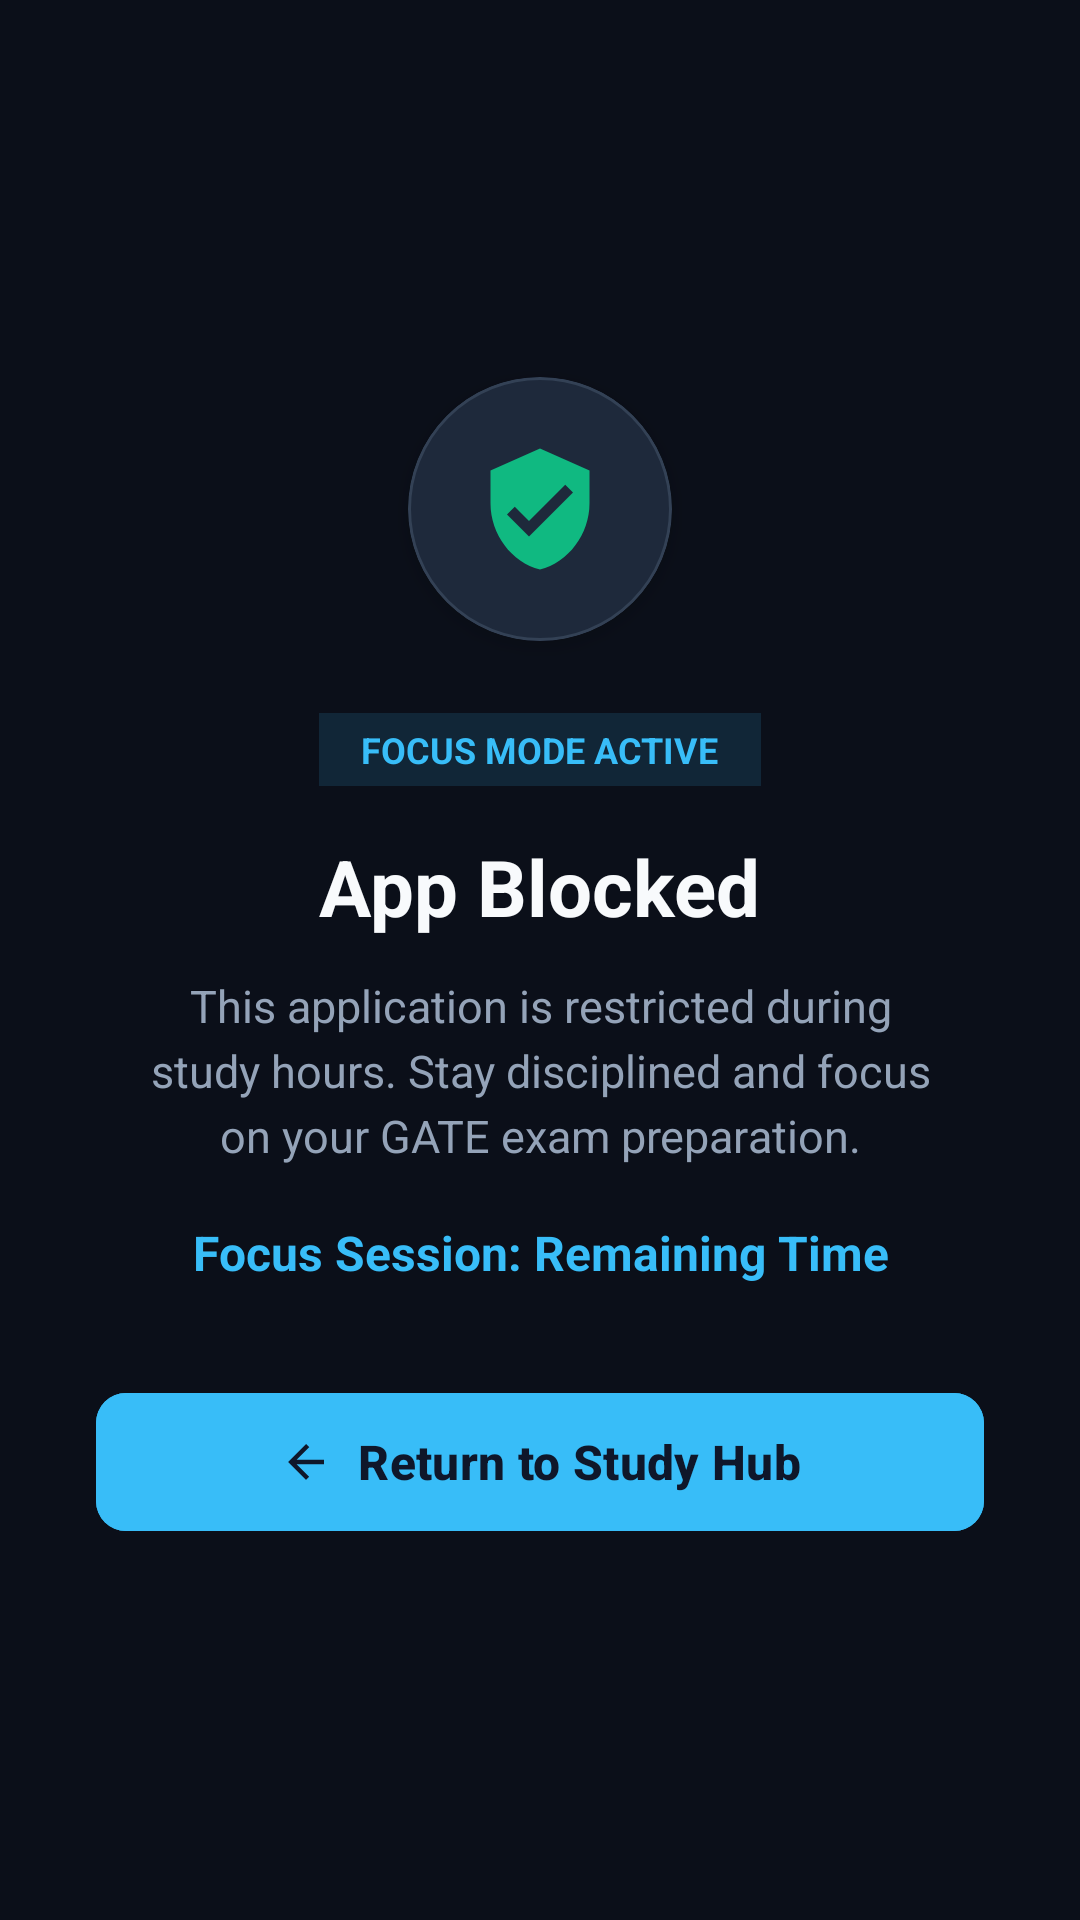

Icons on this 1080 x 1920 Android screen, each with its box as (x1, y1, x2, y2):
shield: (490, 448, 590, 570)
